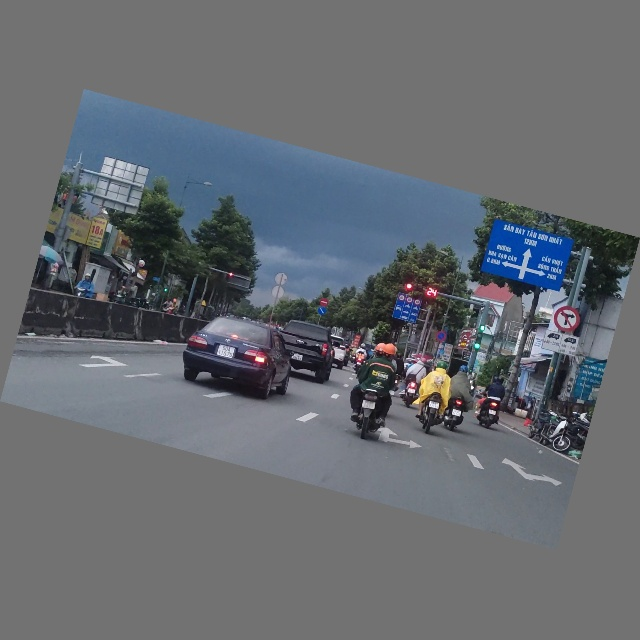P.102: (319, 298, 329, 308)
P.127*60: (398, 295, 405, 302), (406, 297, 413, 304), (414, 299, 421, 306)
P.131a: (434, 330, 448, 344)
P.137: (551, 304, 583, 335)
R.302a: (317, 307, 327, 317)
R.415a: (392, 301, 420, 325)
